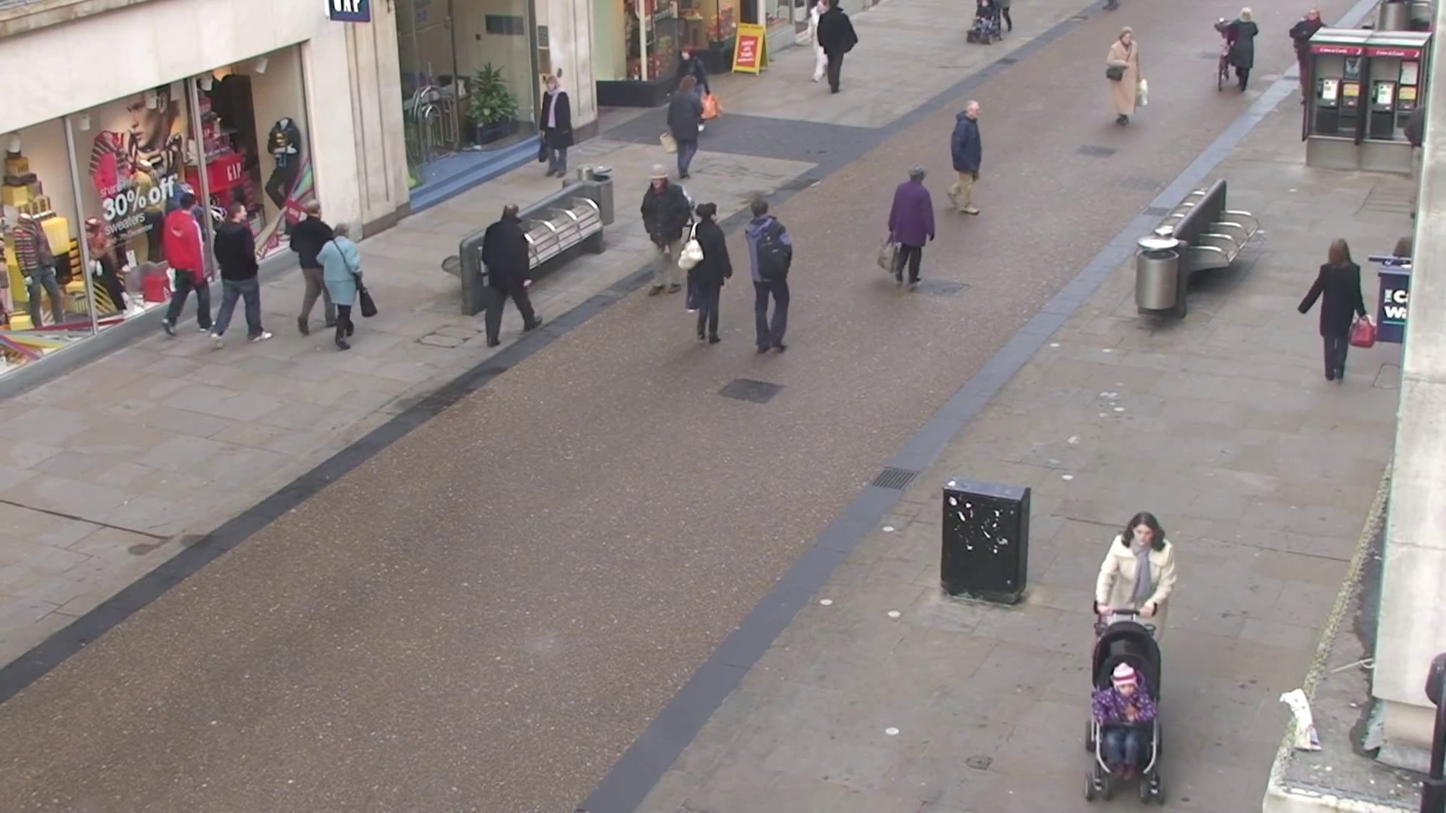person: (1296, 237, 1367, 386), (1094, 511, 1176, 635), (480, 202, 543, 345), (209, 198, 268, 343), (678, 199, 733, 345), (158, 188, 211, 336), (745, 198, 794, 355), (285, 202, 337, 341), (1213, 0, 1280, 98), (886, 166, 936, 291), (666, 64, 718, 180), (320, 227, 364, 351), (947, 98, 985, 216), (641, 169, 692, 254), (536, 71, 575, 178), (816, 0, 858, 93), (1105, 29, 1142, 127)
